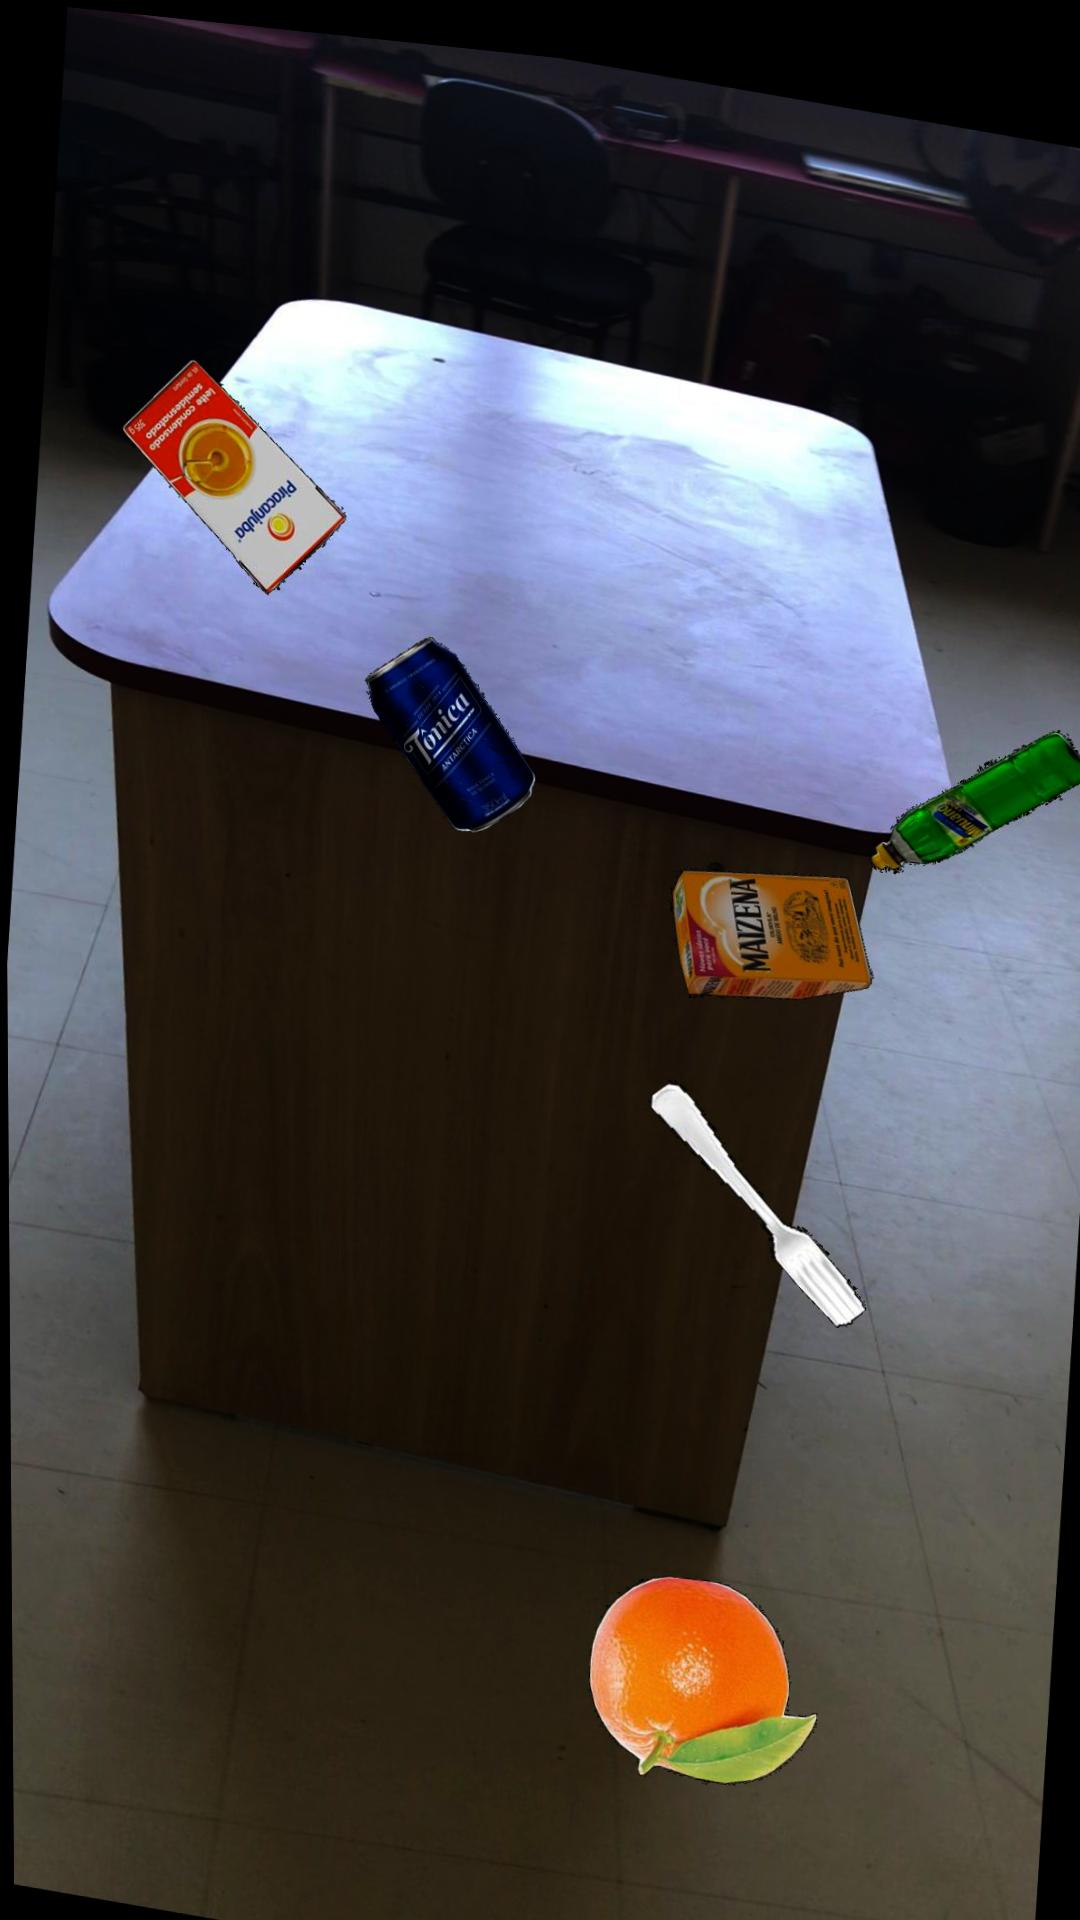cleaner: (869, 704, 1080, 852)
fork: (646, 1065, 864, 1307)
orange: (587, 1559, 815, 1767)
tonic: (364, 625, 535, 820)
